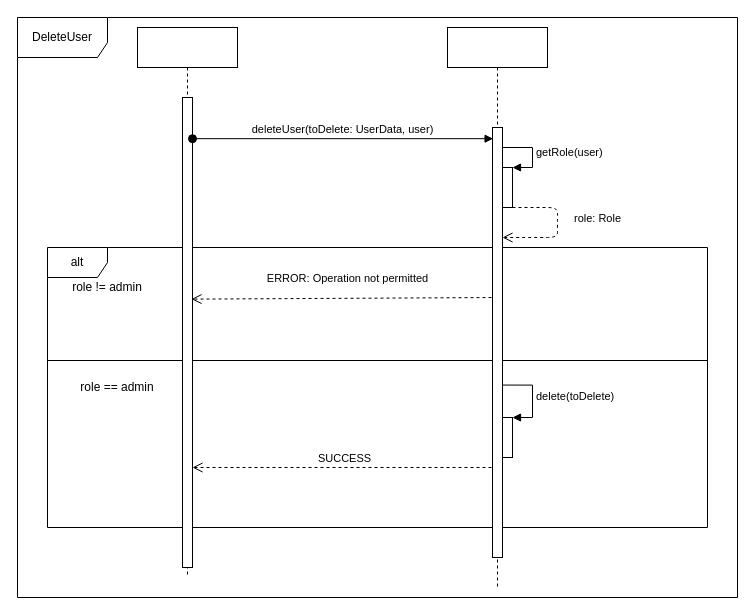
The diagram is 755 pixels wide and 615 high, and some of its shapes have lost their labels. The box of each missing label's shape, as (x1, y1, x2, y2) in pixels:
handler: User Data Handler: (446, 26, 548, 588)
user: User: (136, 26, 238, 578)
